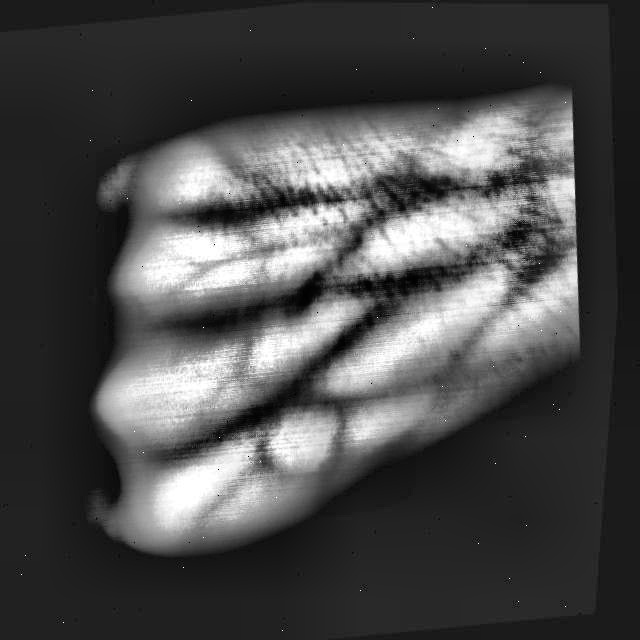Vein: (307, 250, 458, 304)
